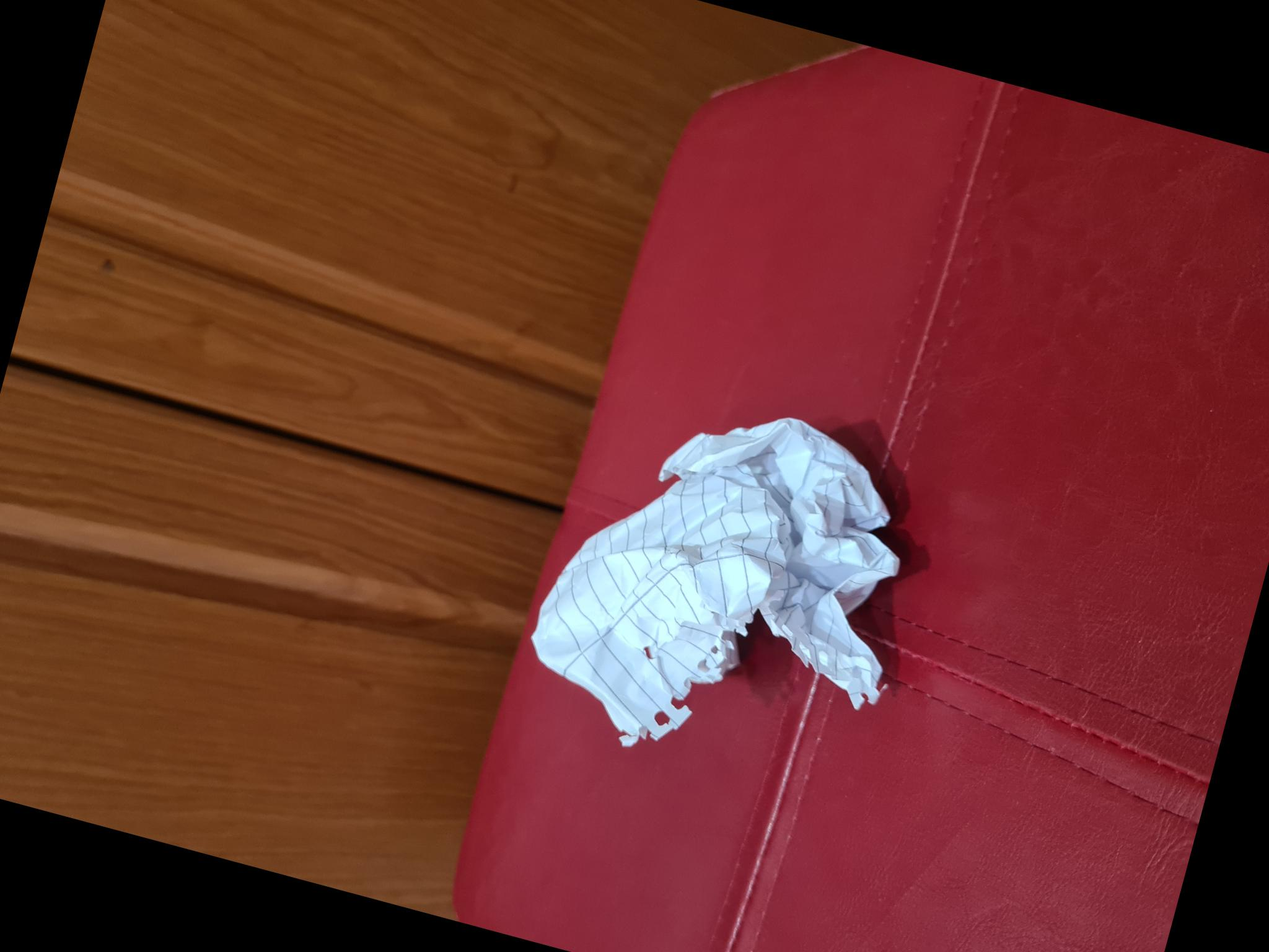Kertas: (170, 484, 494, 872)
